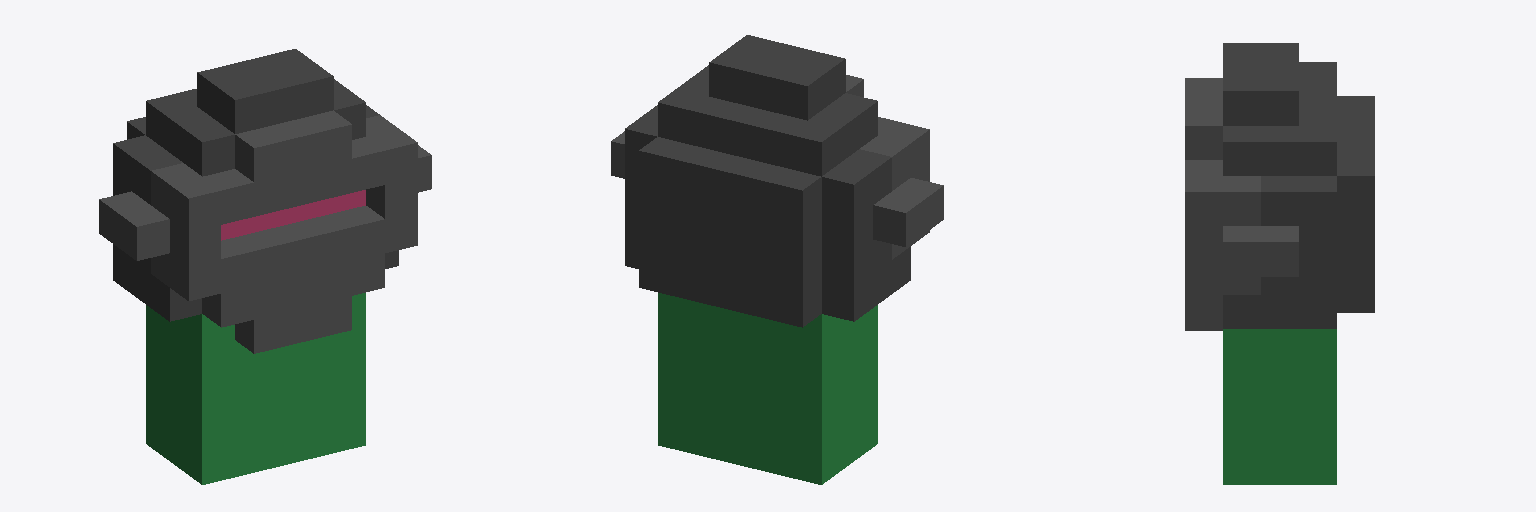
3 views of the same model, side by side, from view 1: azimuth 30°, elevation 25°; view 2: azimuth 150°, elevation 25°; view 3: azimuth 270°, elevation 25° (orthographic).
Parts seen in each view (by area): view 1: object 1; view 2: object 1; view 3: object 1.
Part boxes in pixels (x1,y1,x2,y2): object 1: (99, 49, 431, 484); object 1: (611, 35, 943, 484); object 1: (1185, 43, 1374, 484).
Size of the model in its own units: 0.9 by 1.1 by 0.5.
1 materials, 1 textured.